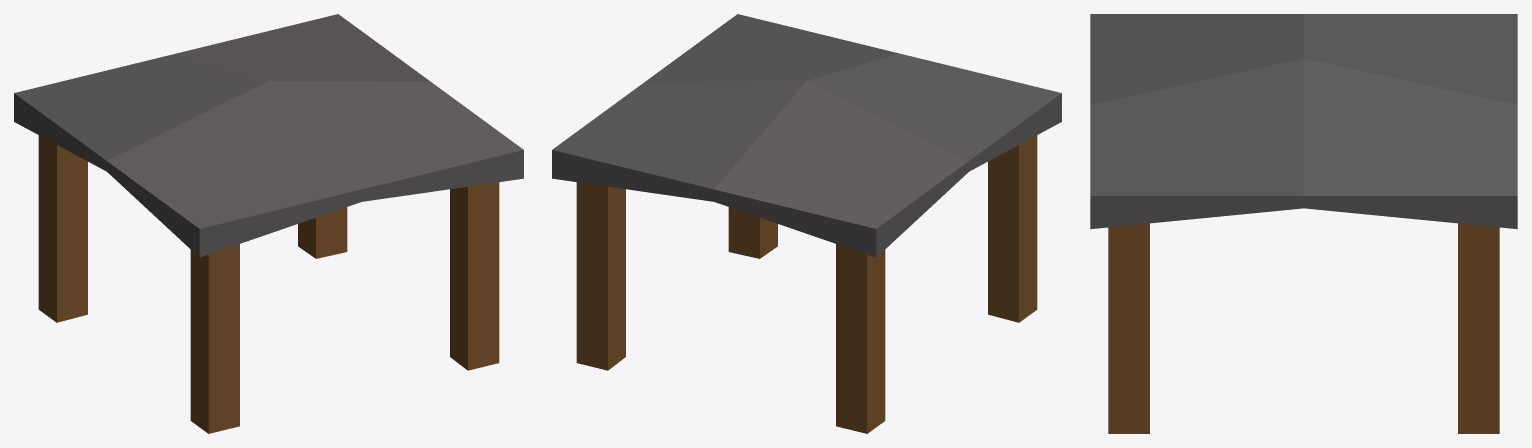
Rendered from BlacksmithL1.fbx.
3 views of the same model, side by side, from view 1: azimuth 30°, elevation 25°; view 2: azimuth 150°, elevation 25°; view 3: azimuth 270°, elevation 25° (orthographic). The views are drawn at different scales.
Visible parts, largest first — view 1: Cube; view 2: Cube; view 3: Cube.
Part boxes in pixels (x1,y1,x2,y2): Cube: (14, 14, 523, 433); Cube: (552, 14, 1061, 433); Cube: (1090, 14, 1517, 433).
Bounding box in the file's own units: 2071 × 1559 × 2054.
